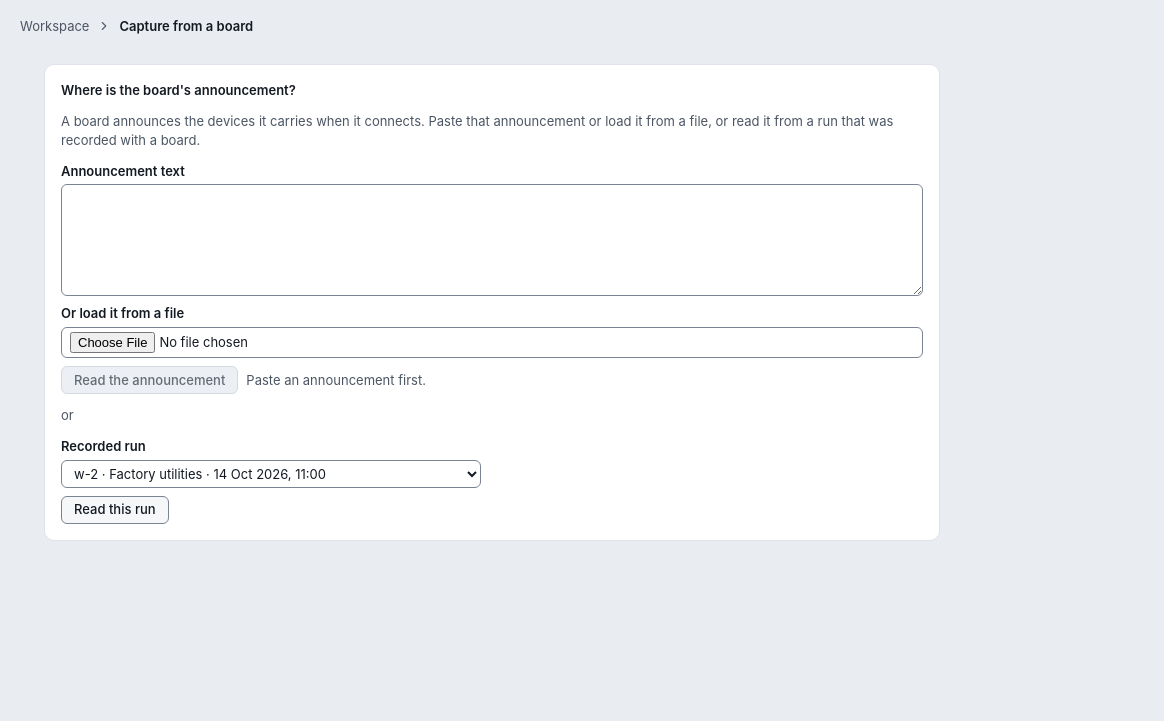
Test: reading a recorded run › shows the binary's words behind a plain sentence when the run holds no announcement
Click the button "Read this run".
click(115, 510)  # box x1=61 y1=496 x2=169 y2=524
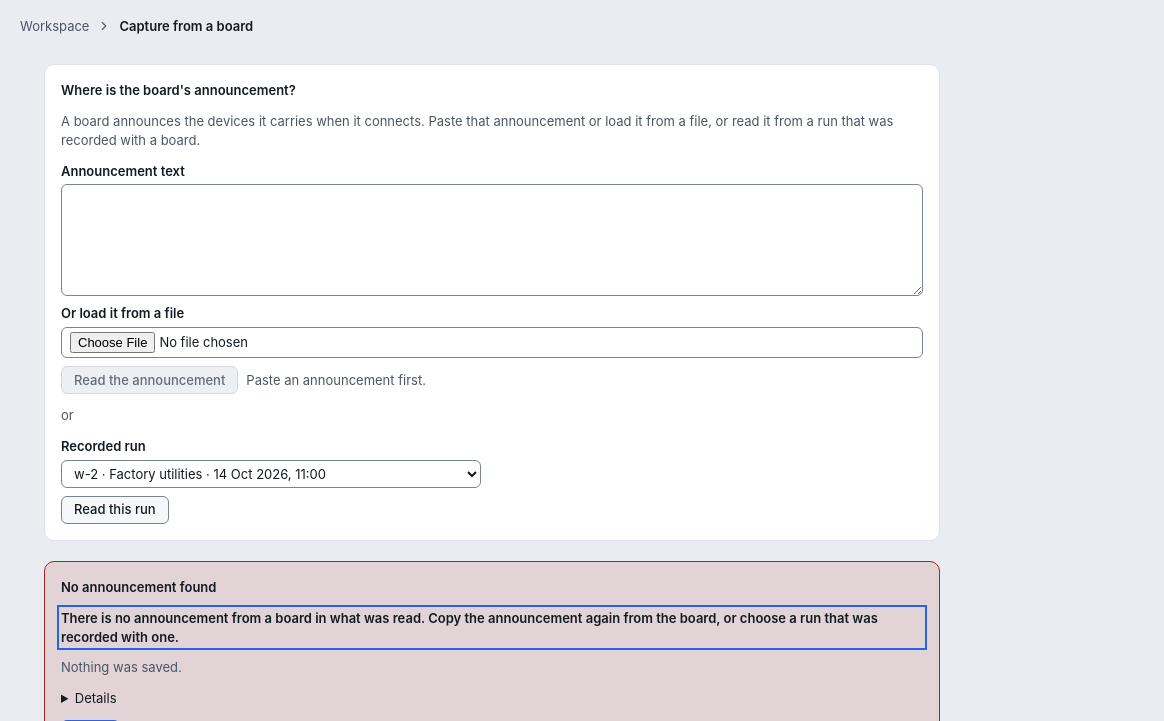
Expected: the heading "No announcement found" is shown, x1=61 y1=579 x2=216 y2=595
